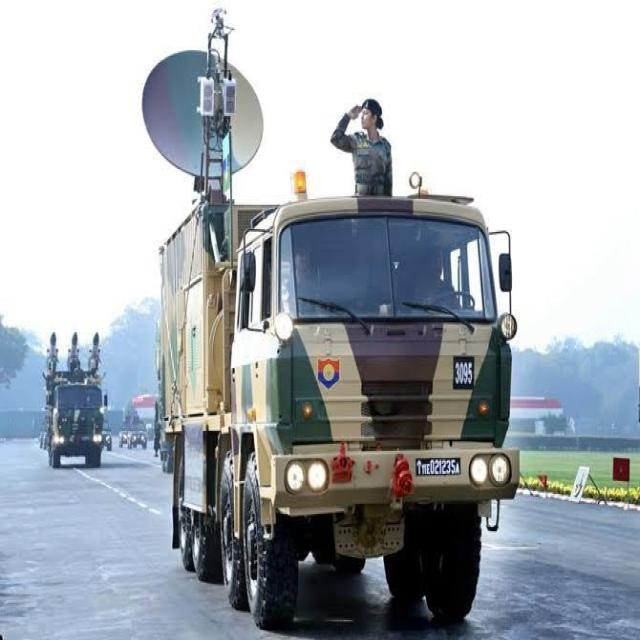0: (459, 361, 464, 383), (431, 460, 434, 476)
1: (439, 459, 442, 473), (424, 464, 427, 474), (422, 464, 424, 474)
2: (435, 460, 439, 474), (442, 460, 446, 474)
3: (454, 360, 460, 384), (446, 460, 450, 474)
5: (468, 362, 473, 384), (452, 460, 454, 474)
9: (464, 362, 468, 384)
a: (455, 462, 460, 473)
e: (427, 464, 430, 473)
